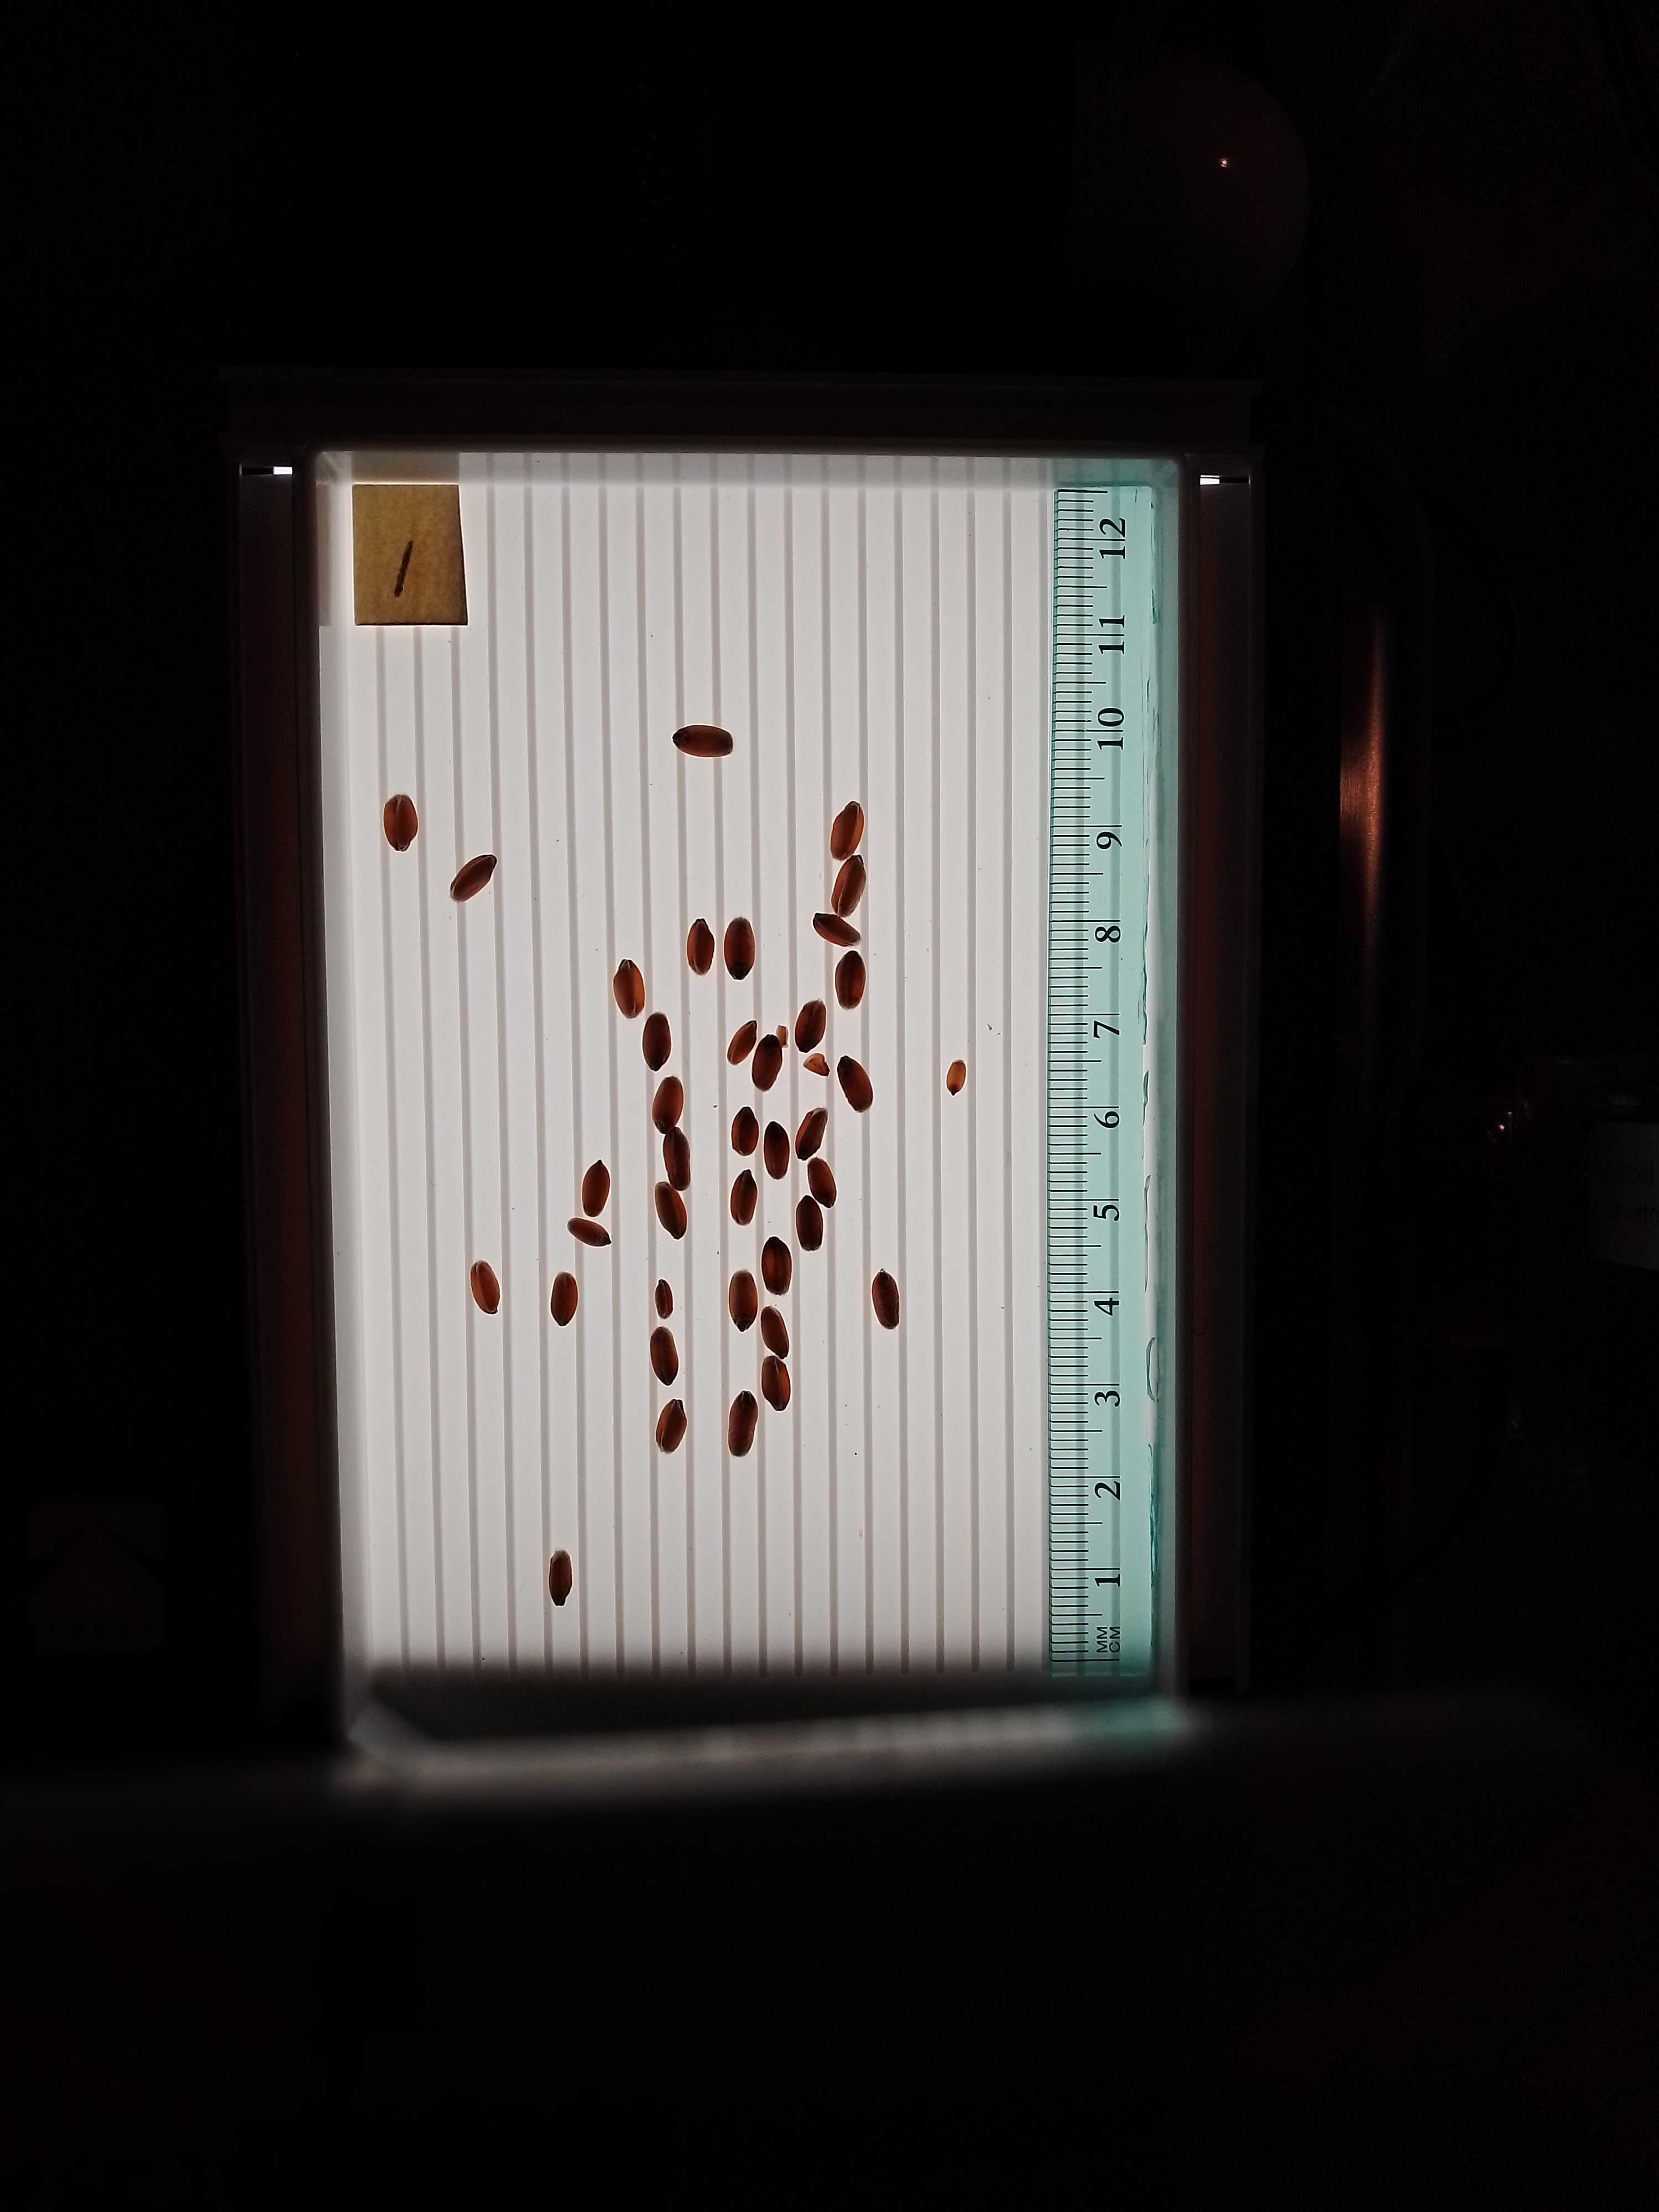seed mask: (448, 852, 500, 904), (828, 853, 870, 918), (835, 1054, 875, 1115), (828, 799, 868, 860), (725, 1390, 760, 1460), (721, 916, 758, 982), (669, 723, 735, 759), (382, 792, 420, 855), (659, 1123, 694, 1191), (725, 1268, 760, 1336), (610, 956, 647, 1021), (650, 1073, 687, 1136), (758, 1353, 795, 1414), (653, 1397, 690, 1458), (831, 949, 866, 1012), (648, 1325, 683, 1388), (749, 1033, 784, 1094), (653, 1179, 688, 1240), (728, 1165, 762, 1228), (760, 1235, 793, 1298), (795, 1106, 831, 1162), (870, 1266, 901, 1331), (793, 998, 828, 1055), (467, 1258, 502, 1315), (809, 911, 863, 948), (641, 1010, 673, 1073), (763, 1118, 793, 1184), (683, 918, 716, 977), (580, 1158, 612, 1219), (793, 1193, 824, 1252), (549, 1270, 580, 1329), (760, 1305, 791, 1360), (547, 1548, 575, 1609), (730, 1104, 762, 1158), (807, 1157, 838, 1209), (725, 1019, 758, 1068), (565, 1216, 612, 1247), (652, 1277, 674, 1320), (945, 1057, 967, 1097), (802, 1050, 831, 1078), (774, 1022, 791, 1050)
